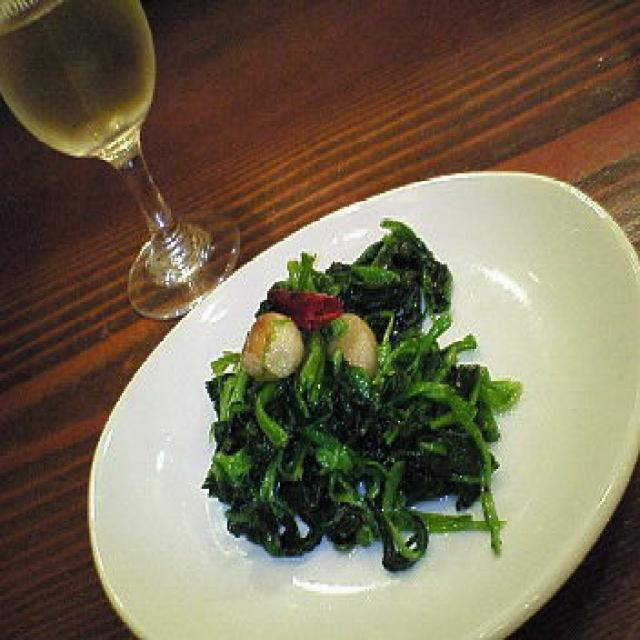蔬菜料理: (174, 193, 546, 602)
